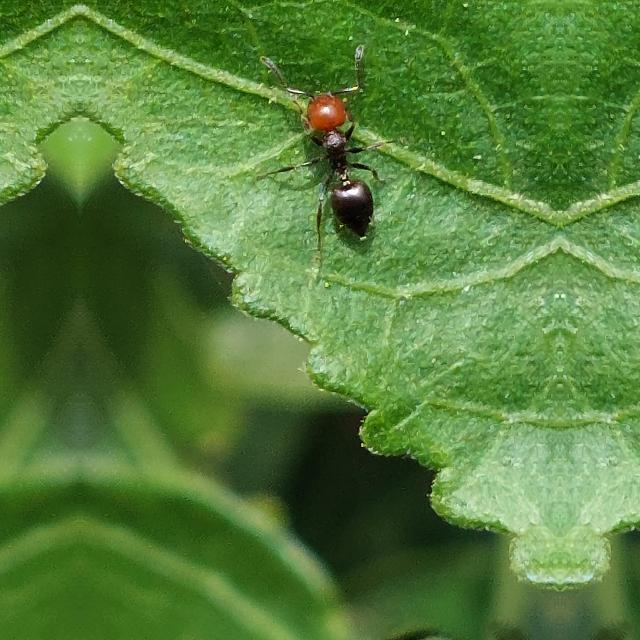Crematogaster: (289, 78, 389, 232)
